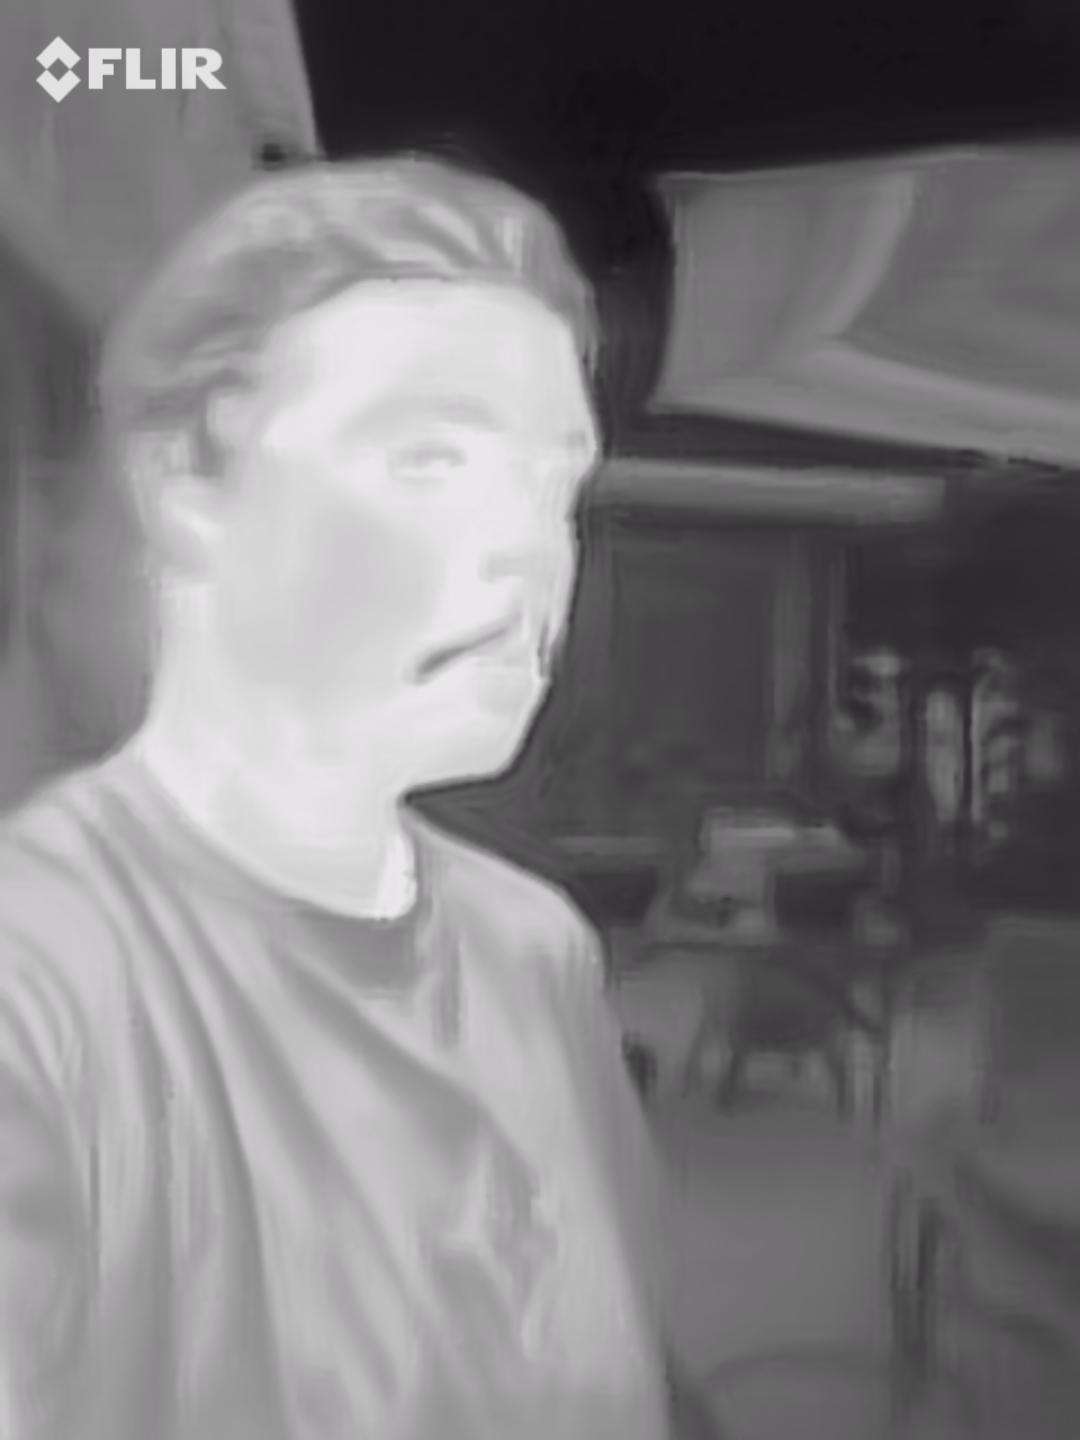head: (99, 156, 604, 804)
